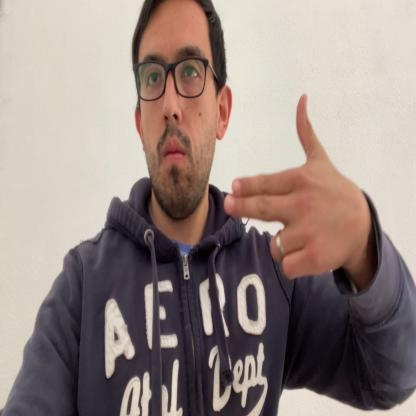H: (224, 92, 365, 278)
